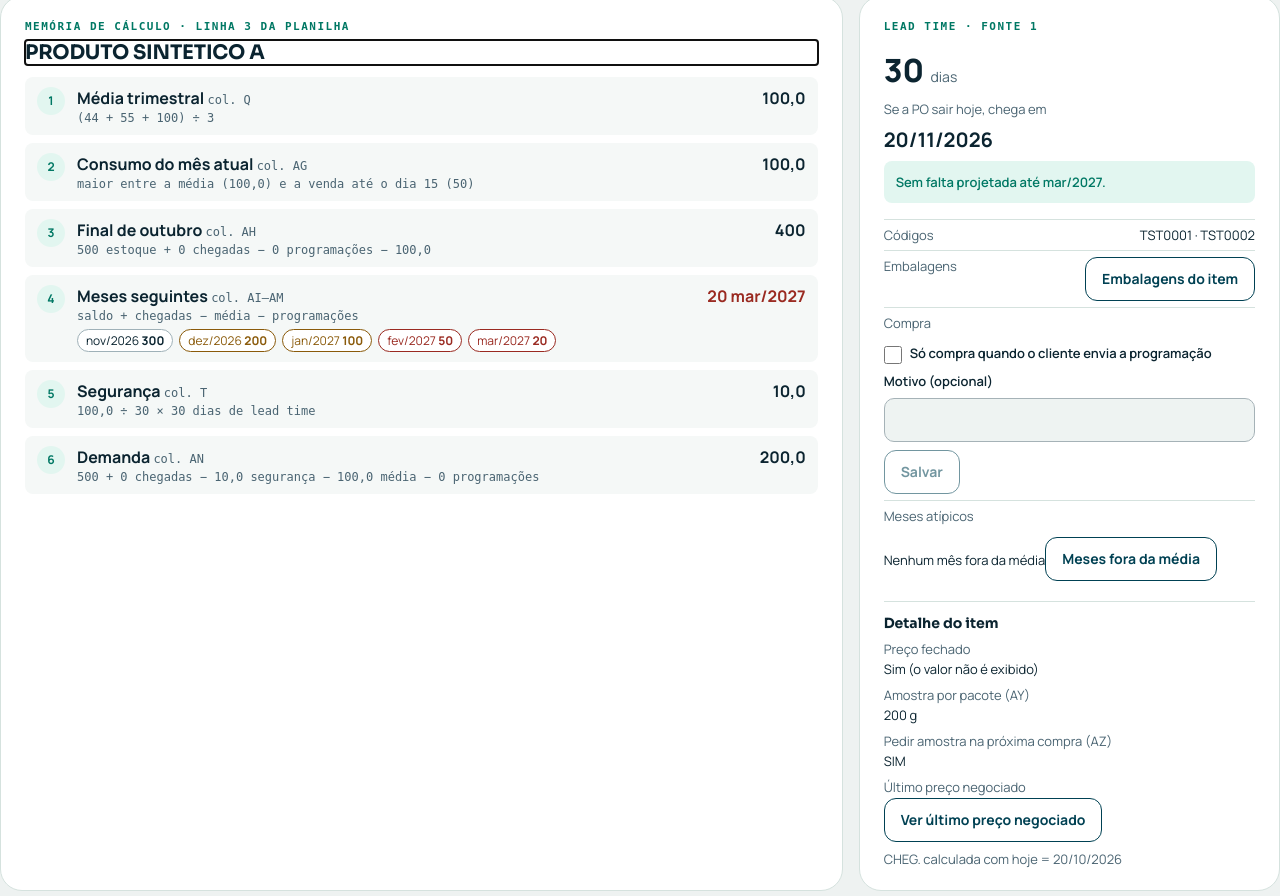
Test: ForecastItemPagina - cartao do ultimo preco negociado (so o estado atual) › erro: alerta + "Tentar de novo" no cartao; refazer mostra o resultado (so 1 estado por vez)
Click the button "Ver último preço negociado" at (993,820), box [884,798,1102,842]
(page scrolled)
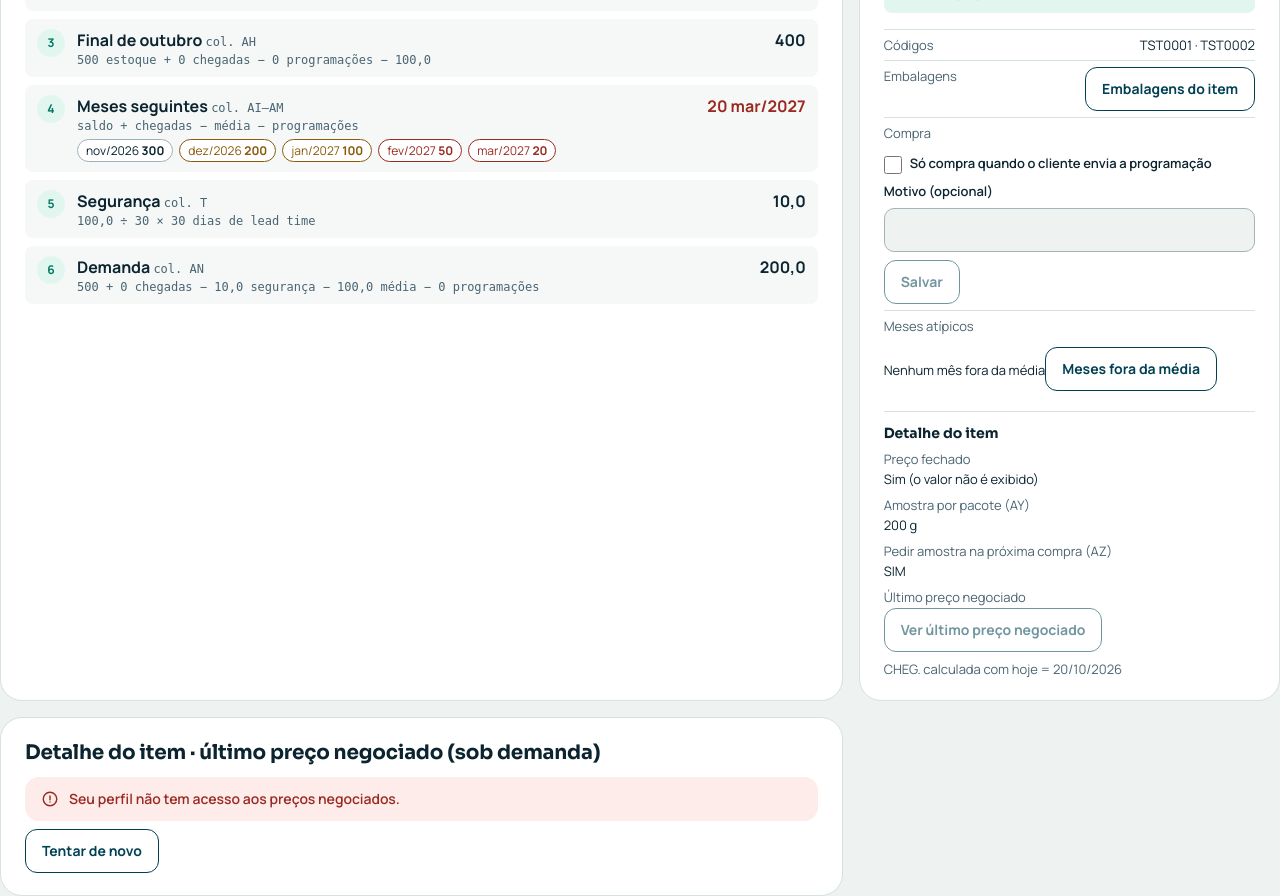
Expected: the message "Seu perfil não tem acesso aos preços negociados." is shown, [25,776,818,821]
Expected: the number of elements with class "fcu-resultado" is 1, [25,776,818,873]
Click the button "Tentar de novo" at (92,851), box [25,829,159,873]
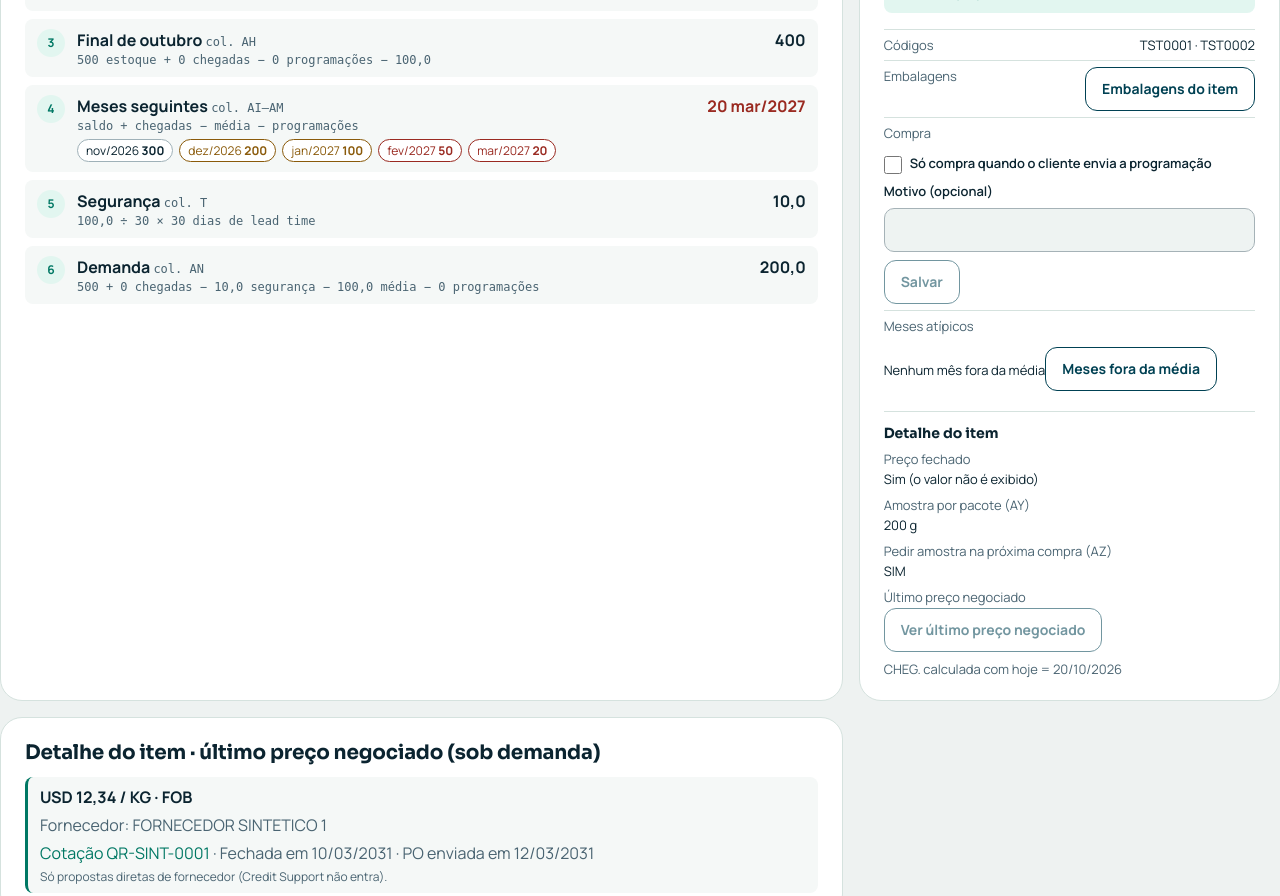
Expected: the text "USD 12,34 / KG · FOB" is shown, [40,786,192,808]
Expected: the message "Seu perfil não tem acesso aos preços negociados." is gone
